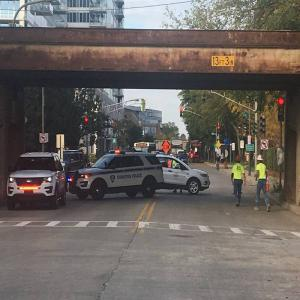red: (237, 156, 242, 164)
white: (258, 155, 263, 165)
